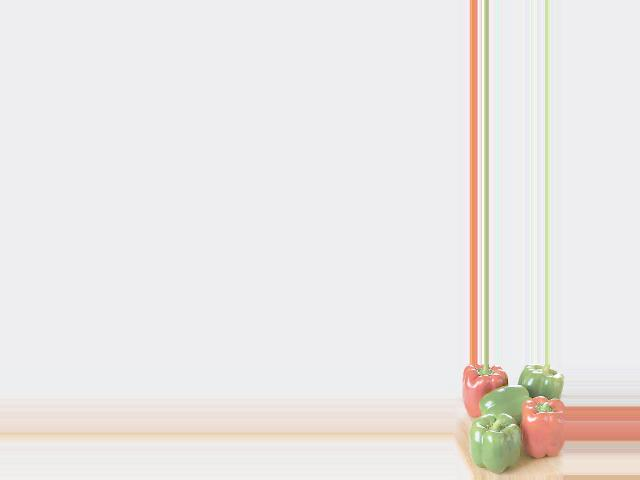bell_pepper: (518, 398, 564, 464)
